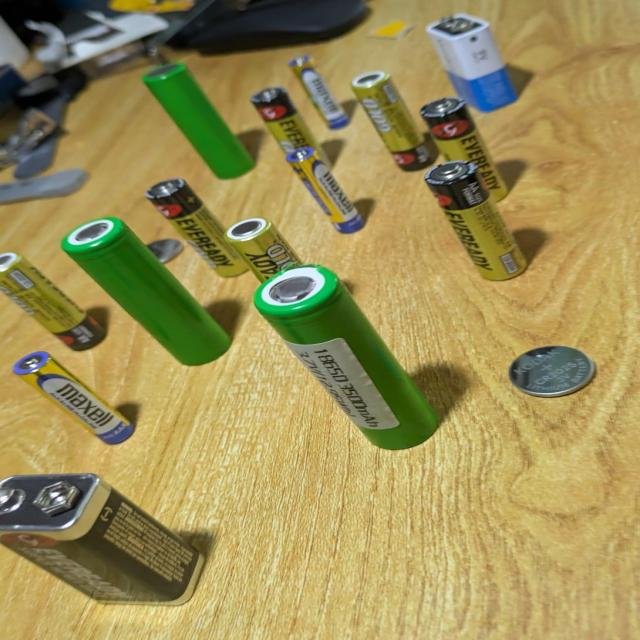9V: (2, 471, 206, 604), (426, 12, 514, 108)
AA: (424, 160, 524, 280), (0, 250, 107, 349), (148, 181, 250, 275), (422, 100, 507, 204), (352, 72, 431, 170), (252, 88, 328, 168), (226, 217, 308, 281)
AAA: (6, 341, 143, 447), (284, 143, 374, 237), (285, 52, 356, 133)
COIN: (507, 346, 596, 398), (142, 235, 186, 266)
